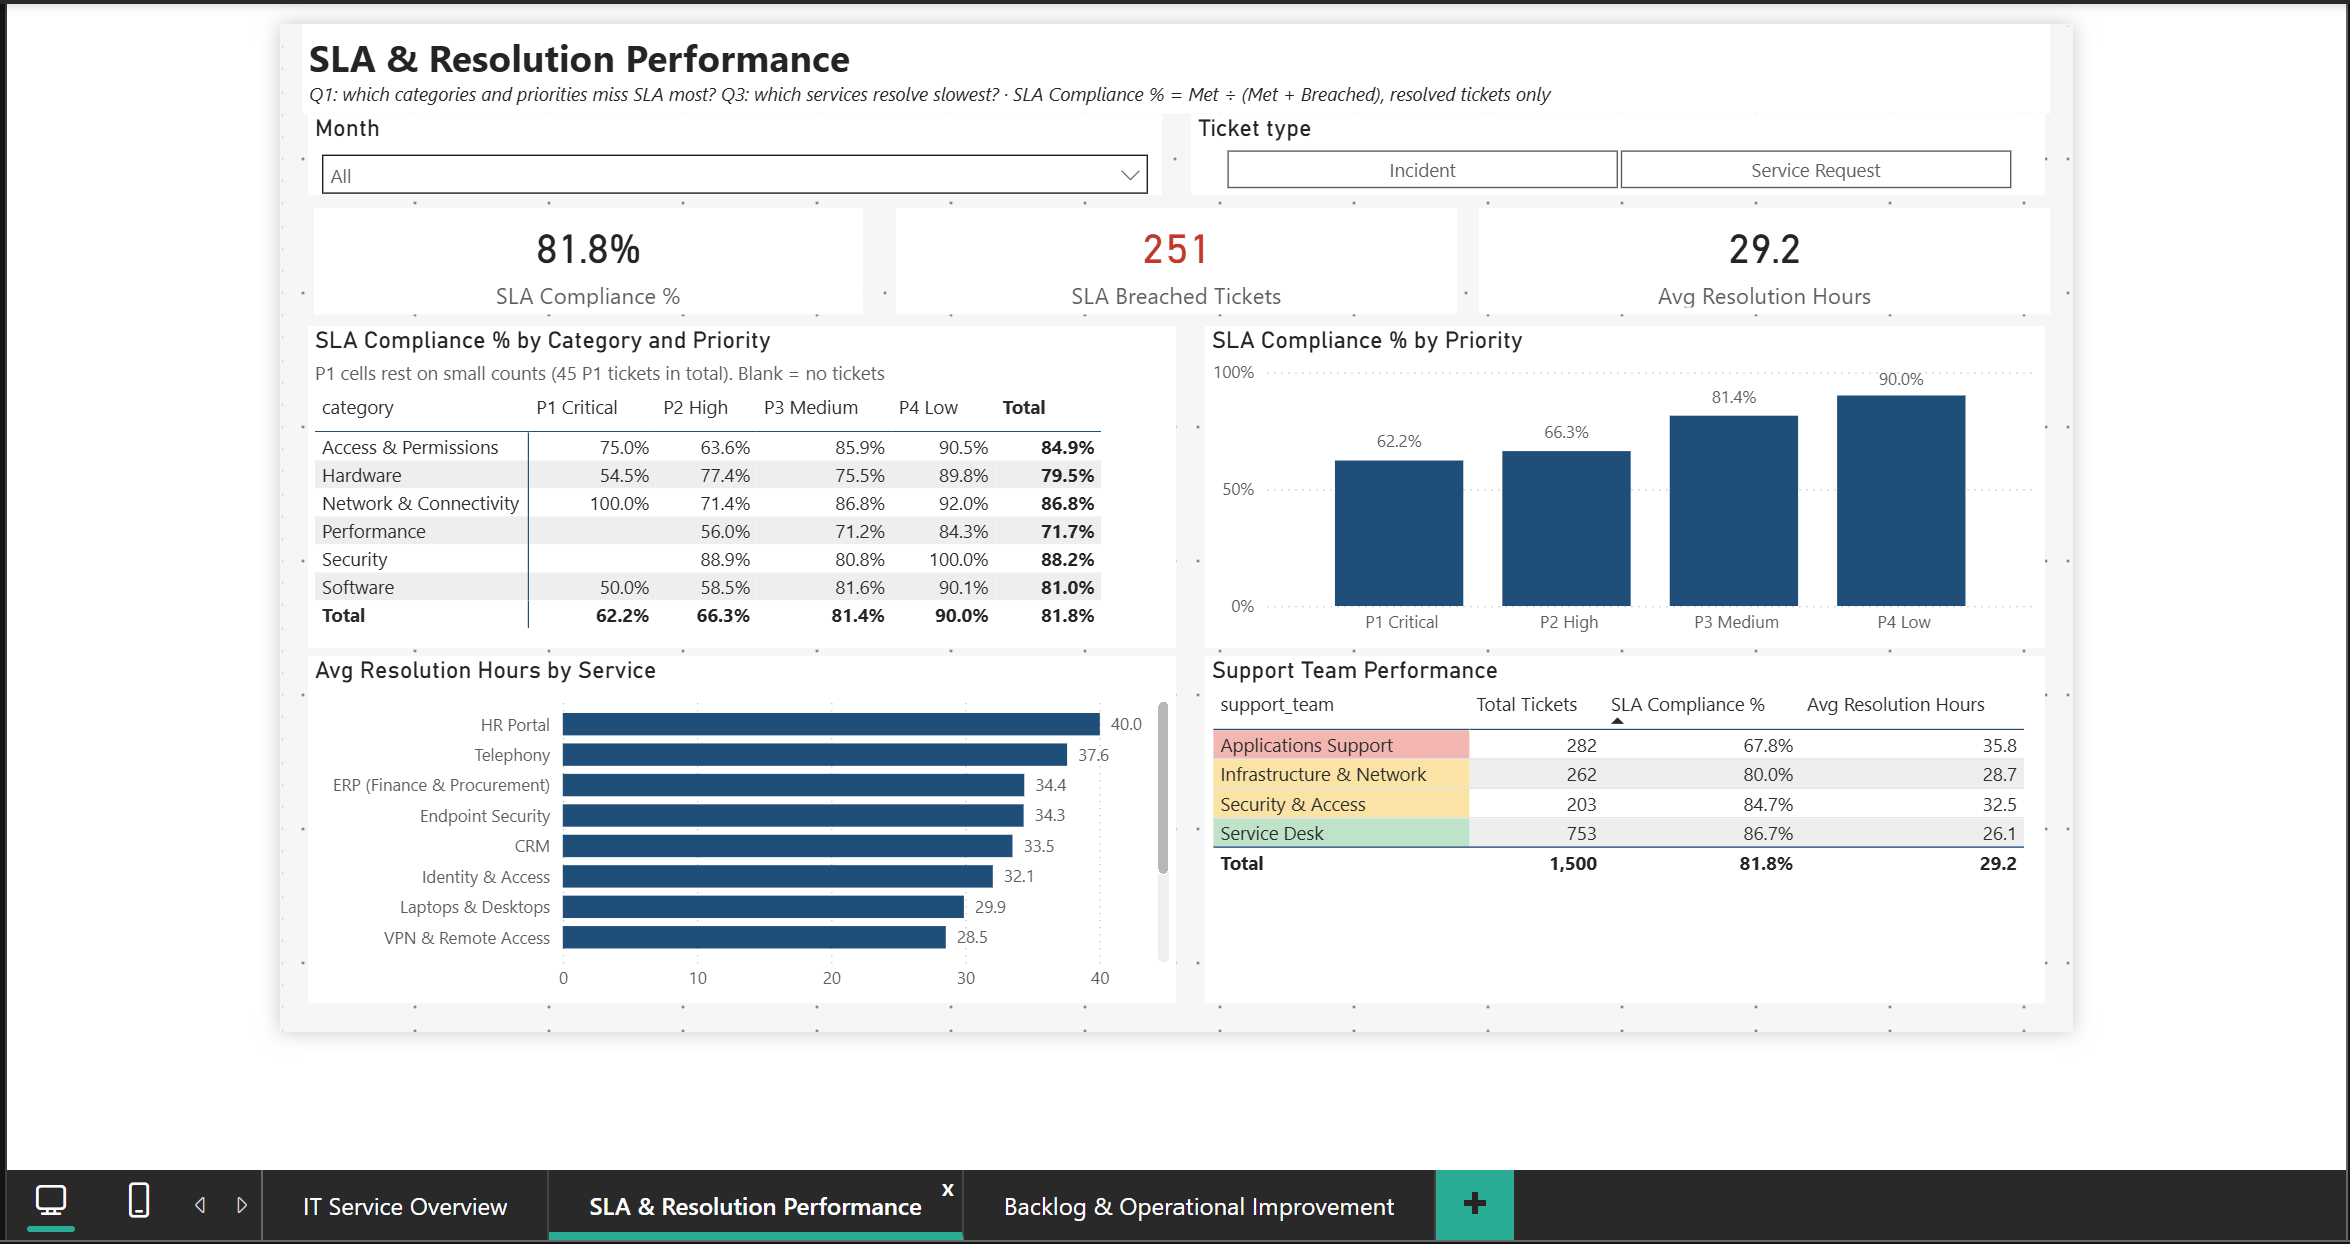

The page's visual inventory and layout, read from the dashboard file:
{"tool":"powerbi","page":{"name":"SLA & Resolution Performance","canvas":[1280,720],"ordinal":1},"visuals":[{"type":"textbox","box":[16,0,1248,64],"z":0},{"type":"slicer","title":"Month","fields":{"Values":["dim_date.month_label"]},"box":[20,64,610,58],"z":1000},{"type":"slicer","title":"Ticket type","fields":{"Values":["fact_tickets.ticket_type"]},"box":[650,64,610,58],"z":2000},{"type":"card","fields":{"Values":["fact_tickets.SLA Breached Tickets"]},"box":[440,132,400,76],"z":3000},{"type":"card","fields":{"Values":["fact_tickets.SLA Compliance %"]},"box":[24,132,392,76],"z":4000},{"type":"card","fields":{"Values":["fact_tickets.Avg Resolution Hours"]},"box":[856,132,408,76],"z":5000},{"type":"pivotTable","title":"SLA Compliance % by Category and Priority","fields":{"Rows":["fact_tickets.category"],"Columns":["fact_tickets.priority"],"Values":["fact_tickets.SLA Compliance %"]},"box":[20,215,620,230],"z":6000},{"type":"clusteredColumnChart","title":"SLA Compliance % by Priority","fields":{"Category":["fact_tickets.priority"],"Y":["fact_tickets.SLA Compliance %"]},"box":[660,215,600,230],"z":7000},{"type":"clusteredBarChart","title":"Avg Resolution Hours by Service","fields":{"Category":["dim_service.service_name"],"Y":["fact_tickets.Avg Resolution Hours"]},"box":[20,452,620,248],"z":8000},{"type":"tableEx","title":"Support Team Performance","fields":{"Values":["dim_service.support_team","fact_tickets.Total Tickets","fact_tickets.SLA Compliance %","fact_tickets.Avg Resolution Hours"]},"box":[660,452,600,248],"z":9000}]}

Visuals, with their boxes on the page's 1280x720 design canvas (x1, y1, x2, y2). These are canvas units, not pixel positions in the 2350x1244 screenshot, which may show the page scaled, cropped or inside an application window:
textbox: x1=16, y1=0, x2=1264, y2=64
"Month" slicer: x1=20, y1=64, x2=630, y2=122
"Ticket type" slicer: x1=650, y1=64, x2=1260, y2=122
card - fact_tickets.SLA Breached Tickets: x1=440, y1=132, x2=840, y2=208
card - fact_tickets.SLA Compliance %: x1=24, y1=132, x2=416, y2=208
card - fact_tickets.Avg Resolution Hours: x1=856, y1=132, x2=1264, y2=208
"SLA Compliance % by Category and Priority" pivotTable: x1=20, y1=215, x2=640, y2=445
"SLA Compliance % by Priority" clusteredColumnChart: x1=660, y1=215, x2=1260, y2=445
"Avg Resolution Hours by Service" clusteredBarChart: x1=20, y1=452, x2=640, y2=700
"Support Team Performance" tableEx: x1=660, y1=452, x2=1260, y2=700
